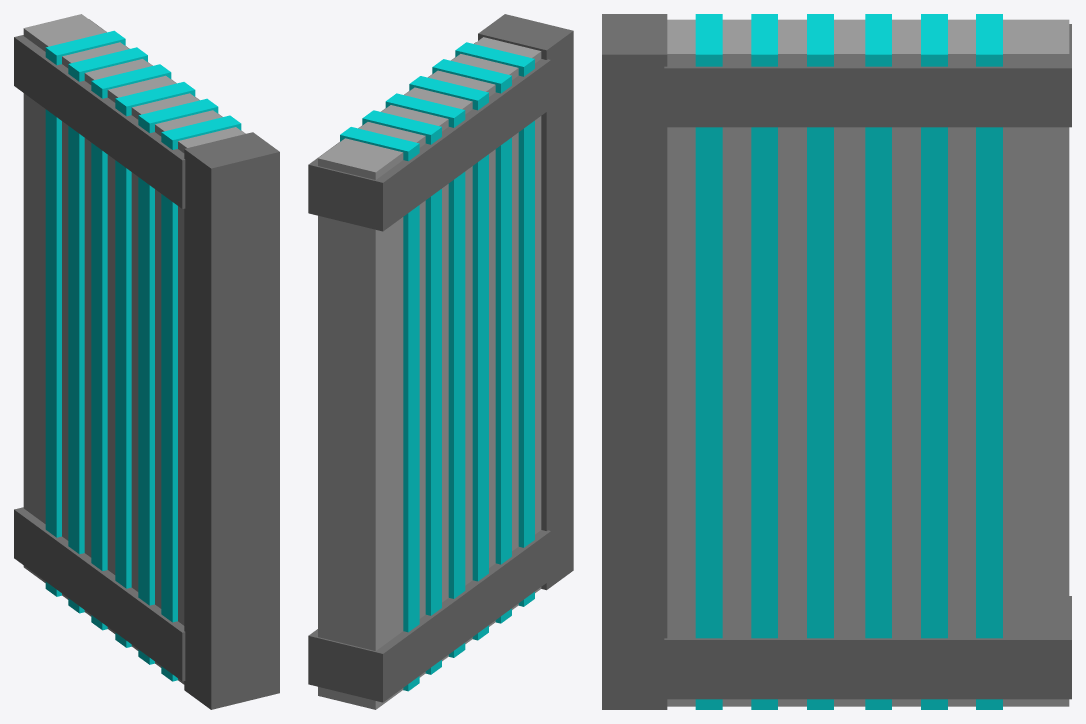
File: door2.fbx
3 views of the same model, side by side, from view 1: azimuth 30°, elevation 25°; view 2: azimuth 150°, elevation 25°; view 3: azimuth 270°, elevation 25° (orthographic). The views are drawn at different scales.
Visible parts, largest first — view 1: door2; view 2: door2; view 3: door2.
Part boxes in pixels (left/top/right/bottom): door2: left=14, top=14, right=279, bottom=709; door2: left=308, top=14, right=573, bottom=709; door2: left=602, top=14, right=1071, bottom=709.
Size of the model in its own units: 0.2335 by 1.61 by 1.05.
